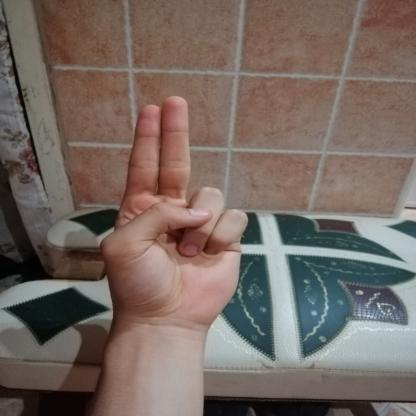TA: (86, 83, 263, 337)
